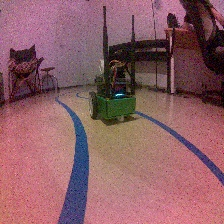rob: (87, 59, 136, 122)
